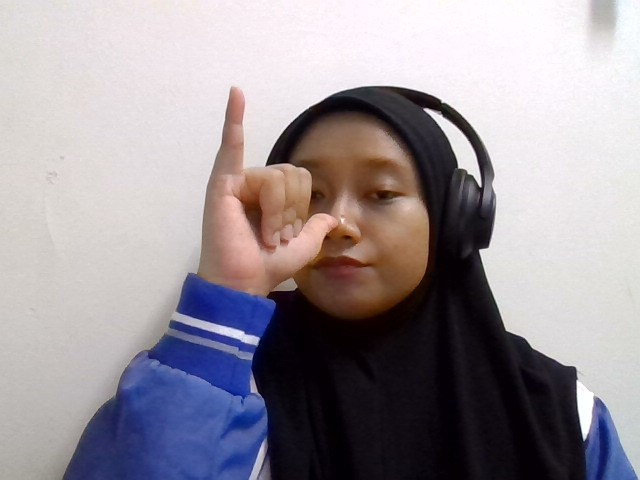BadakSumbu: (200, 85, 376, 285)
